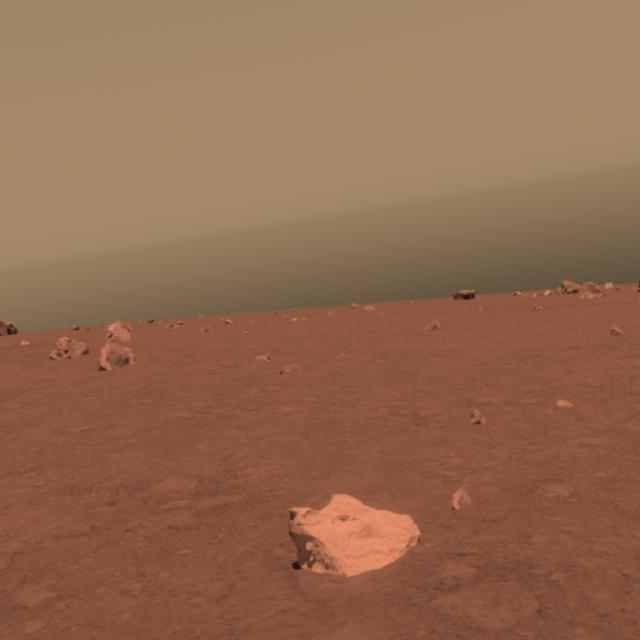rock: (268, 488, 430, 588)
